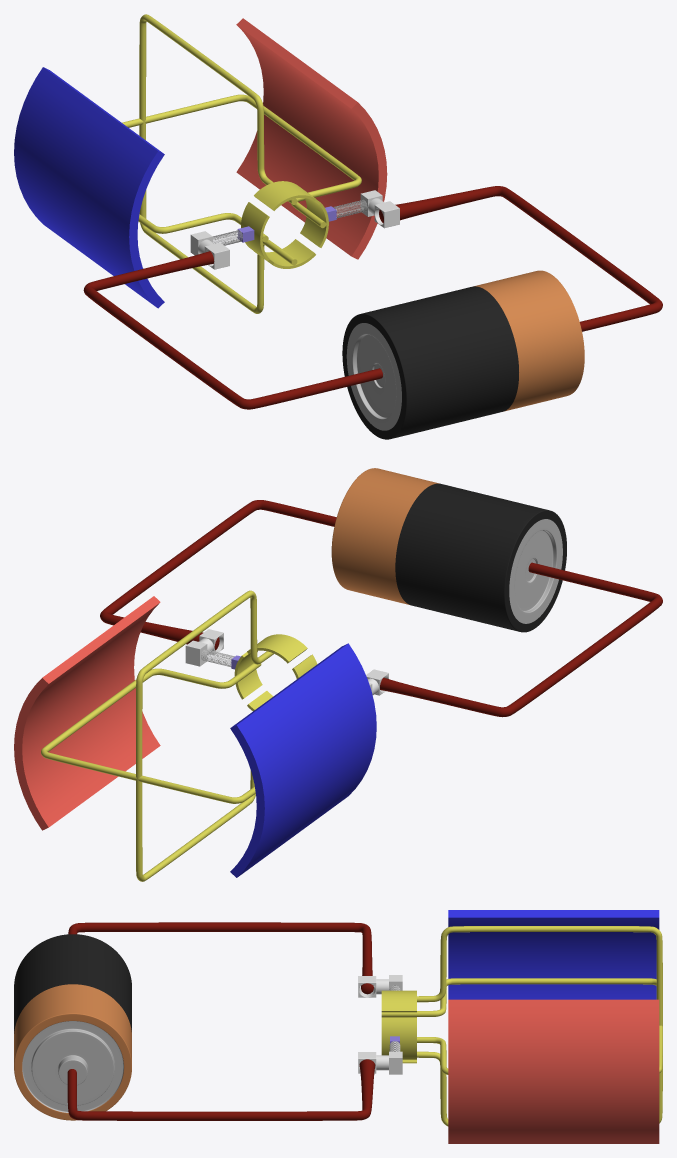
Rendered from dc_motor.gltf.
3 views of the same model, one above another, from view 1: azimuth 30°, elevation 25°; view 2: azimuth 150°, elevation 25°; view 3: azimuth 270°, elevation 25° (orthographic). The views are drawn at different scales.
Visible parts, largest first — view 1: Cylinder.001_3, Circle.002_14, Circle.003_15, coil.002_12, WIRE.001_1, coil.001_13, WIRE_2, Cube.005_11; view 2: Cylinder.001_3, Circle.002_14, Circle.003_15, coil.002_12, WIRE.001_1, coil.001_13, WIRE_2; view 3: Circle.003_15, Cylinder.001_3, Circle.002_14, coil.002_12, WIRE_2, coil.001_13, WIRE.001_1, Cube.002_7, Cube.005_11.
Boxes of the visible parts, x1,y1,x2,y2 form: Cylinder.001_3: (342, 270, 584, 439); Circle.002_14: (14, 67, 164, 308); Circle.003_15: (236, 18, 387, 259); coil.002_12: (139, 14, 315, 313); WIRE.001_1: (83, 251, 382, 409); coil.001_13: (122, 94, 361, 260); WIRE_2: (379, 186, 662, 331); Cube.005_11: (368, 198, 399, 228); Cylinder.001_3: (331, 468, 566, 632); Circle.002_14: (230, 643, 376, 877); Circle.003_15: (14, 596, 160, 830); coil.002_12: (136, 590, 307, 881); WIRE.001_1: (380, 562, 662, 717); coil.001_13: (41, 651, 317, 803); WIRE_2: (100, 500, 336, 650); Circle.003_15: (448, 999, 659, 1143); Cylinder.001_3: (14, 934, 131, 1120); Circle.002_14: (448, 910, 659, 999); coil.002_12: (381, 926, 662, 1126); WIRE_2: (67, 1059, 375, 1120); coil.001_13: (381, 978, 662, 1074); WIRE.001_1: (68, 922, 373, 994); Cube.002_7: (358, 976, 388, 997); Cube.005_11: (358, 1052, 388, 1073).
Bounding box in the file's own units: 12.8 × 6.31 × 18.4.
